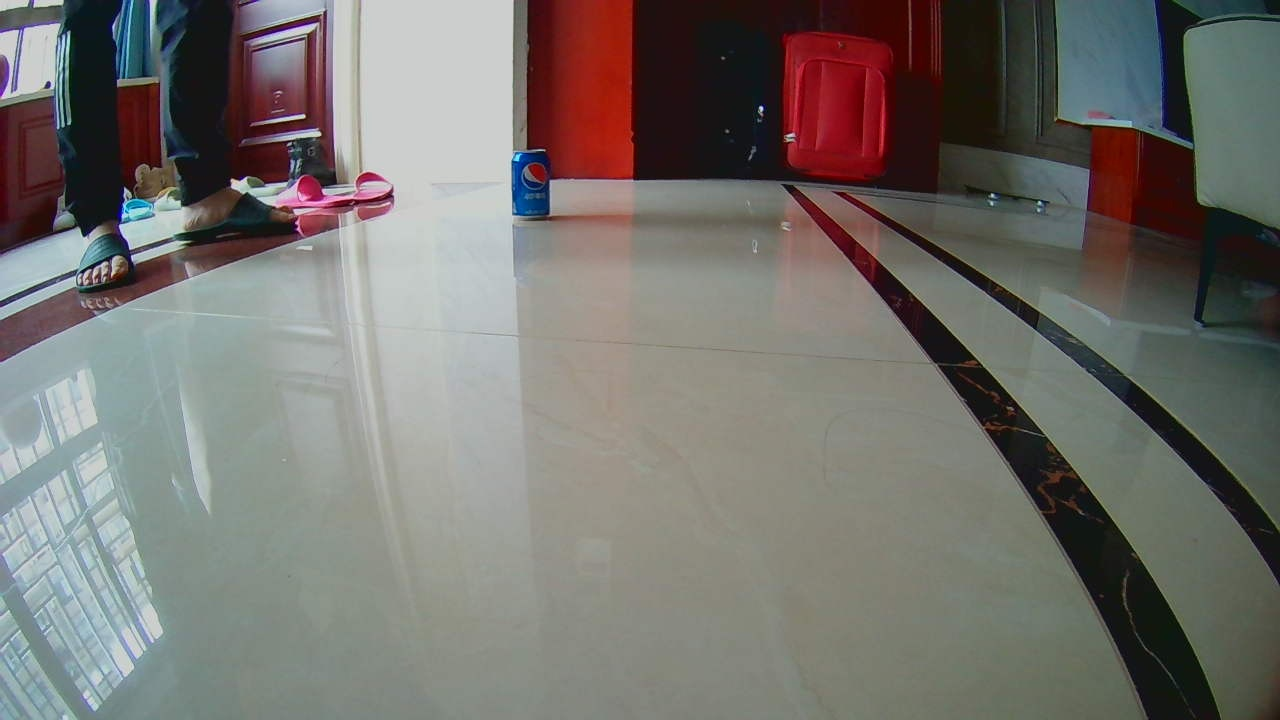pessi: (507, 152, 547, 223)
